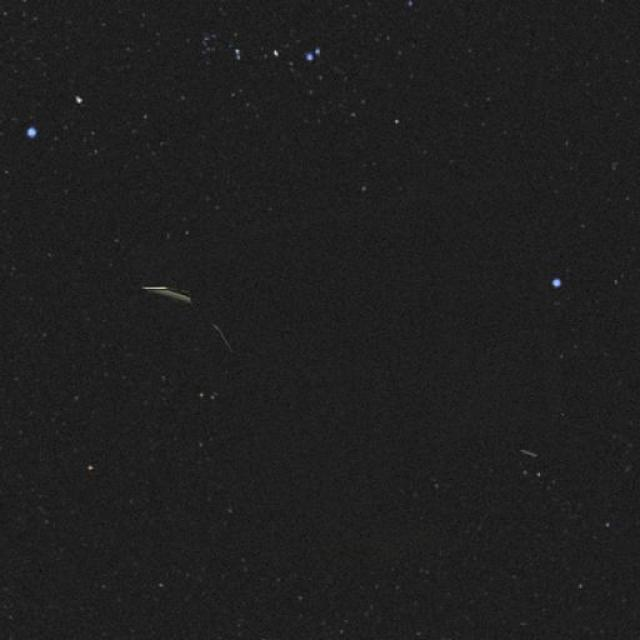cheops: (93, 210, 297, 463)
